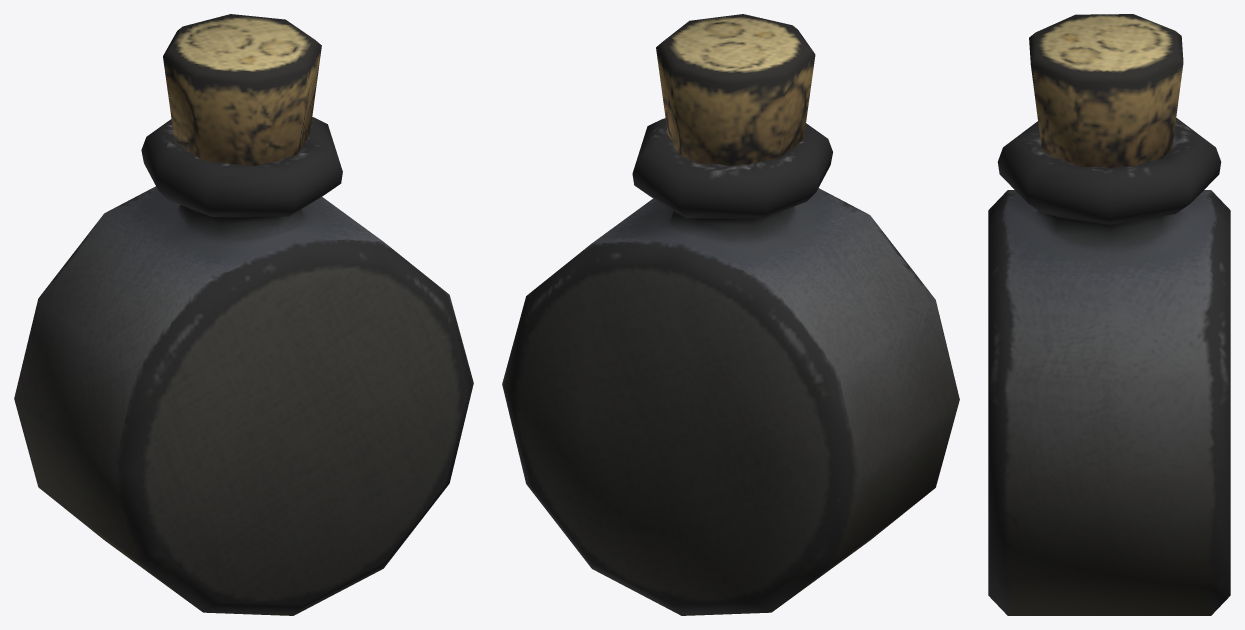
File: Potion 2.fbx
3 views of the same model, side by side, from view 1: azimuth 30°, elevation 25°; view 2: azimuth 150°, elevation 25°; view 3: azimuth 270°, elevation 25° (orthographic). The views are drawn at different scales.
Parts seen in each view (by area): view 1: Cylinder.007, Cylinder.016; view 2: Cylinder.007, Cylinder.016; view 3: Cylinder.007, Cylinder.016.
Part boxes in pixels (box(x1,y1,x2,y2)): Cylinder.007: box(14, 117, 473, 615); Cylinder.016: box(163, 14, 321, 166); Cylinder.007: box(502, 118, 959, 615); Cylinder.016: box(656, 14, 815, 165); Cylinder.007: box(988, 118, 1230, 615); Cylinder.016: box(1029, 14, 1183, 167).
Size of the model in its own units: 41.77 by 59.41 by 23.66.
